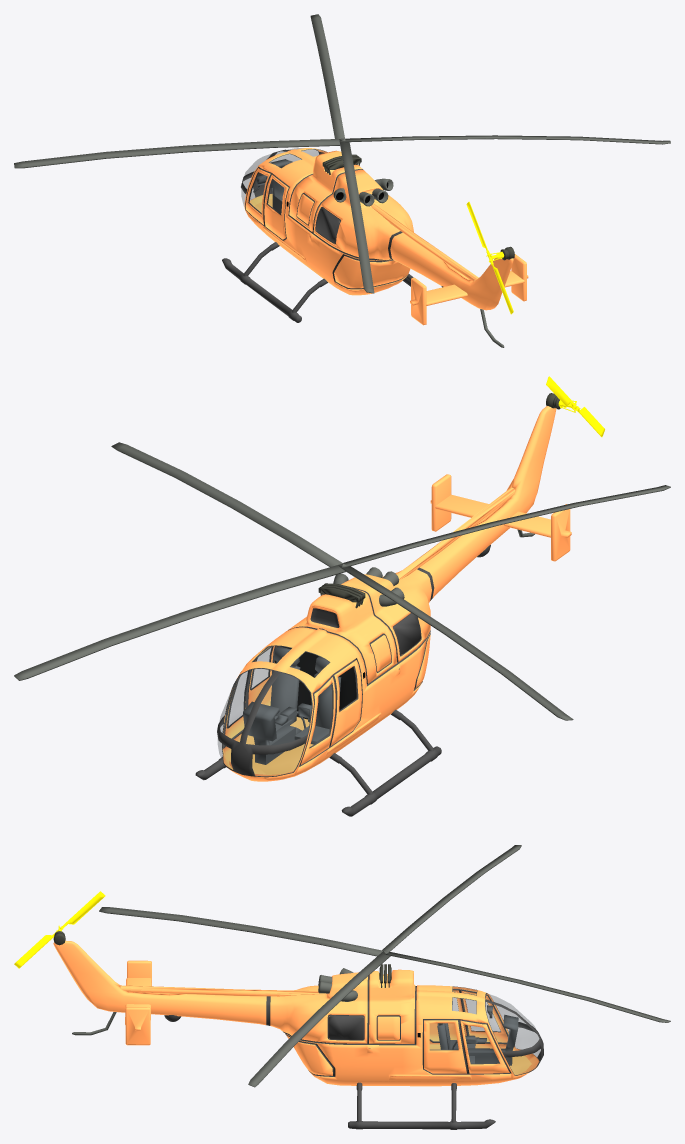
File: heli.glb
3 views of the same model, one above another, from view 1: azimuth 30°, elevation 25°; view 2: azimuth 150°, elevation 25°; view 3: azimuth 270°, elevation 25° (orthographic). The views are drawn at different scales.
Visible parts, largest first — view 1: Body, MainRotor, TailRotor; view 2: Body, MainRotor, TailRotor; view 3: Body, MainRotor, TailRotor.
Part boxes in pixels (x1,y1,x2,y2): Body: (222,148,528,347); MainRotor: (14,14,670,293); TailRotor: (466,201,513,314); Body: (195,393,571,816); MainRotor: (14,442,670,720); TailRotor: (546,376,604,437); Body: (53,931,543,1129); MainRotor: (99,845,670,1087); TailRotor: (14,891,105,968).
Size of the model in its own units: 13.74 by 5.28 by 15.78.
